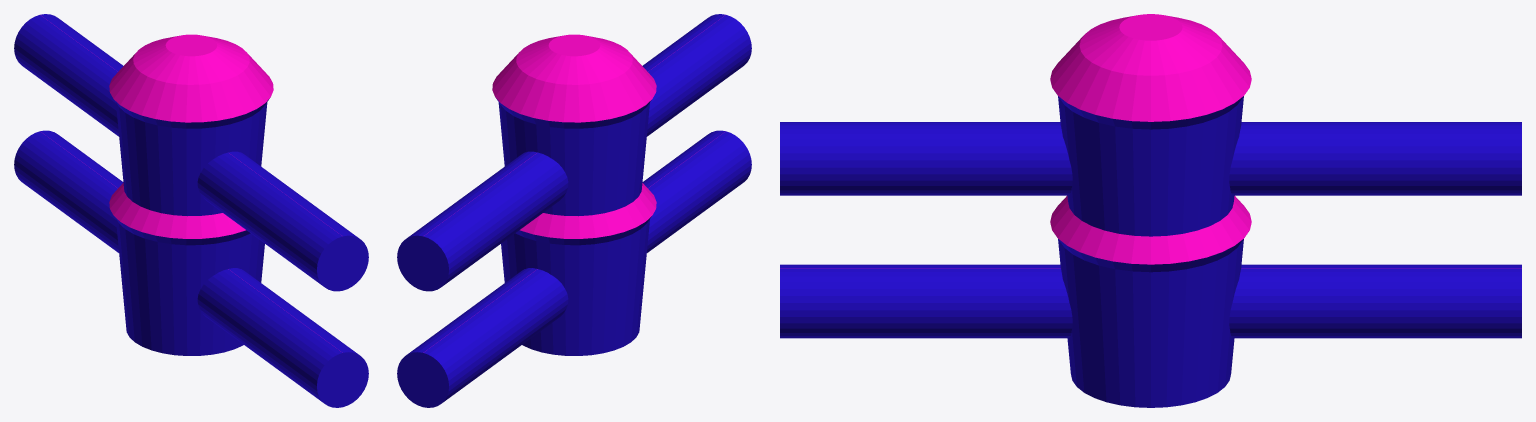
File: turnpin.obj
3 views of the same model, side by side, from view 1: azimuth 30°, elevation 25°; view 2: azimuth 150°, elevation 25°; view 3: azimuth 270°, elevation 25° (orthographic). The views are drawn at different scales.
Visible parts, largest first — view 1: Cylinder.001; view 2: Cylinder.001; view 3: Cylinder.001.
Part boxes in pixels (x1=…): Cylinder.001: x1=14, y1=14, x2=368, y2=407; Cylinder.001: x1=397, y1=14, x2=751, y2=407; Cylinder.001: x1=780, y1=14, x2=1521, y2=407.
Bounding box in the file's own units: 2.52 × 4.77 × 9.26.
2 materials, 2 textured.
